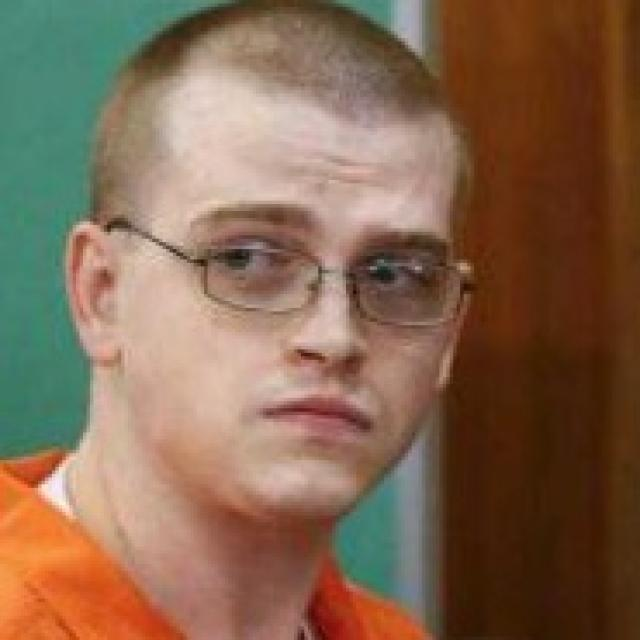Depress: (127, 64, 458, 532)
